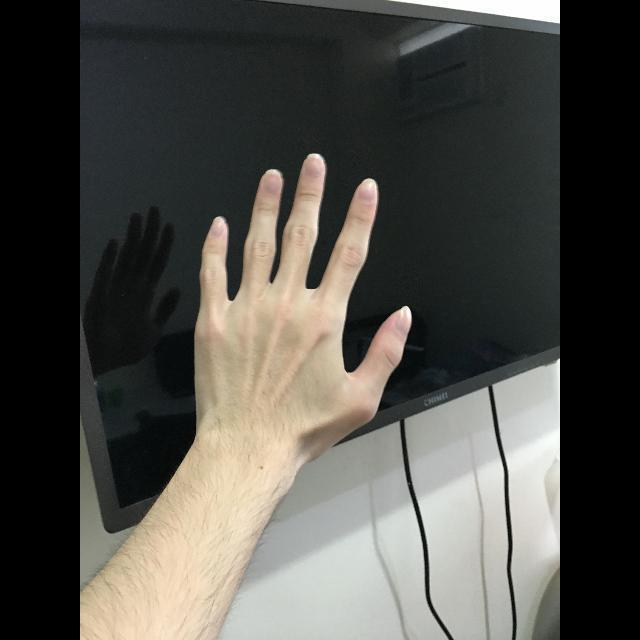bare_hand: (182, 148, 421, 473)
